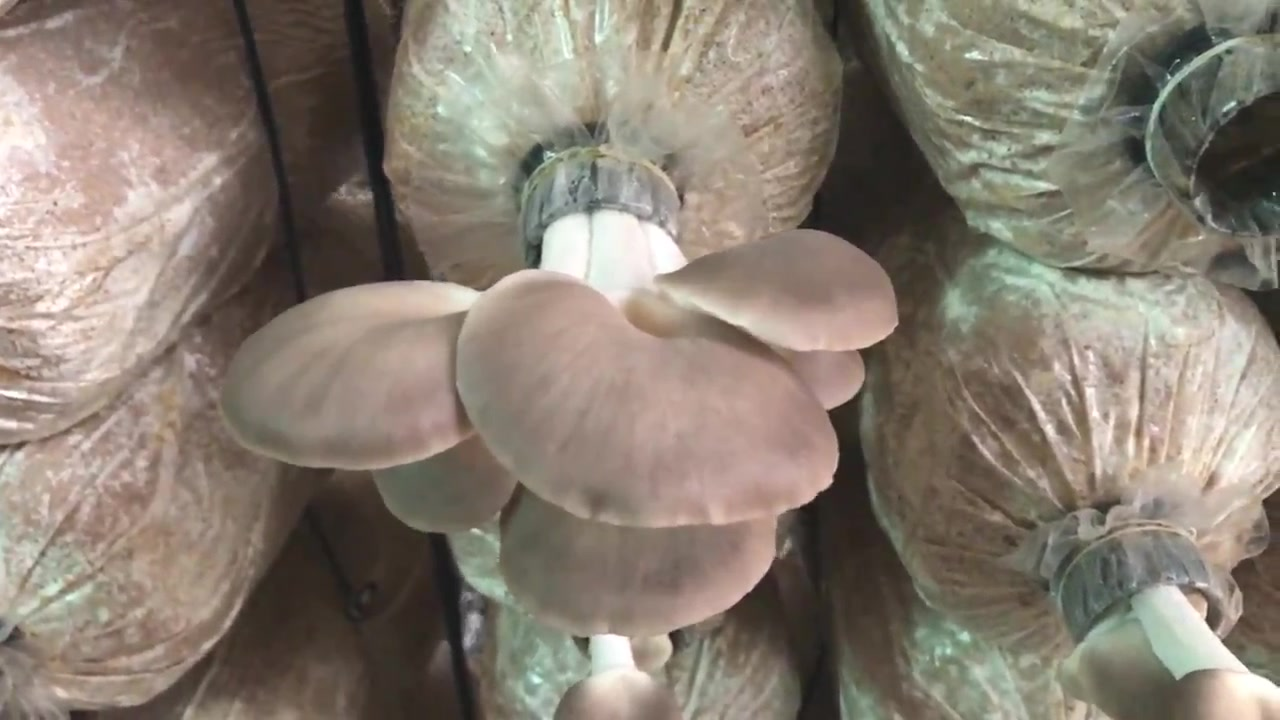nam: (223, 156, 898, 637), (1059, 531, 1280, 720), (554, 634, 679, 720)
